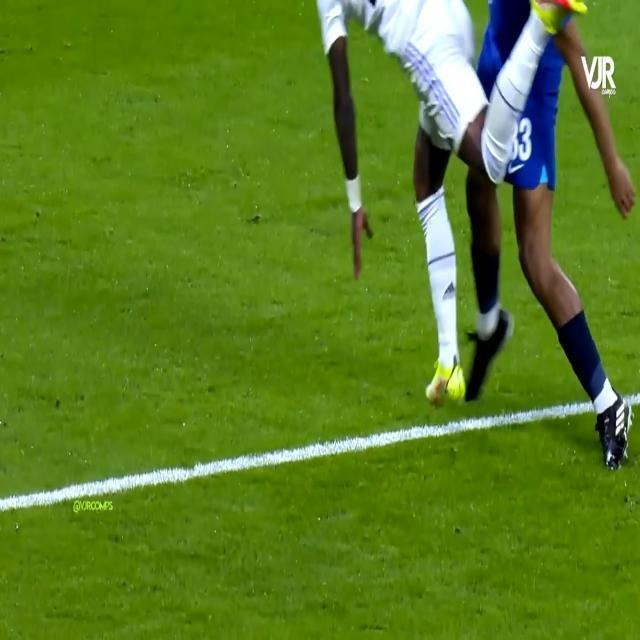player: (319, 0, 502, 454), (483, 0, 639, 510)
